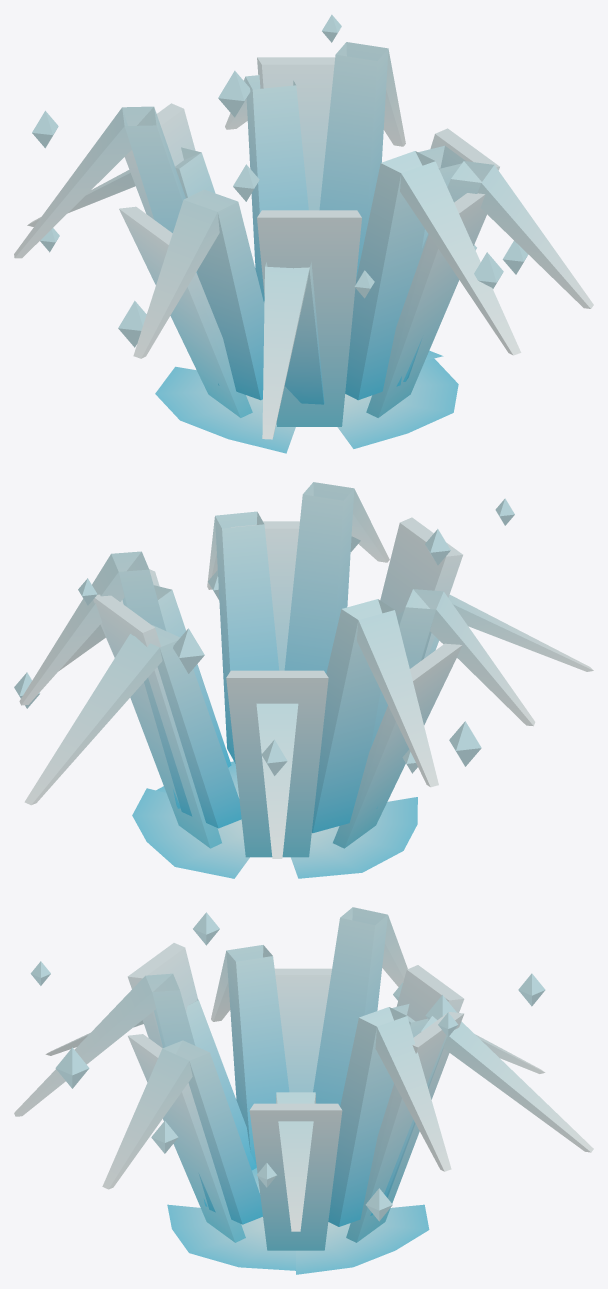
The model's file is SprayBuoySplashBody.glb.
3 renders of one model, top to bottom at view 1: azimuth 30°, elevation 25°; view 2: azimuth 150°, elevation 25°; view 3: azimuth 270°, elevation 25°, orthographic. The views are drawn at different scales.
Visible parts, largest first — view 1: SprayBuoySplashBody; view 2: SprayBuoySplashBody; view 3: SprayBuoySplashBody.
Part boxes in pixels (x1,y1,x2,y2): SprayBuoySplashBody: (14, 14, 593, 453); SprayBuoySplashBody: (14, 482, 593, 878); SprayBuoySplashBody: (14, 907, 593, 1274).
Bounding box in the file's own units: 2.51 × 1.5 × 3.08.
